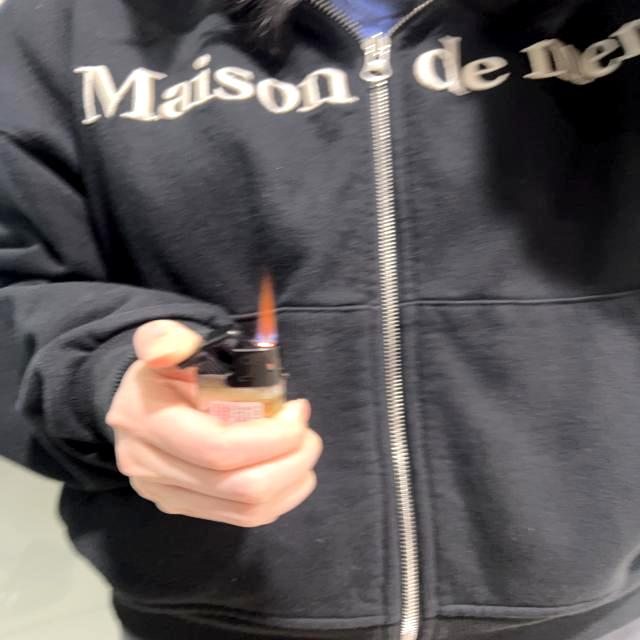fire: (253, 262, 280, 348)
